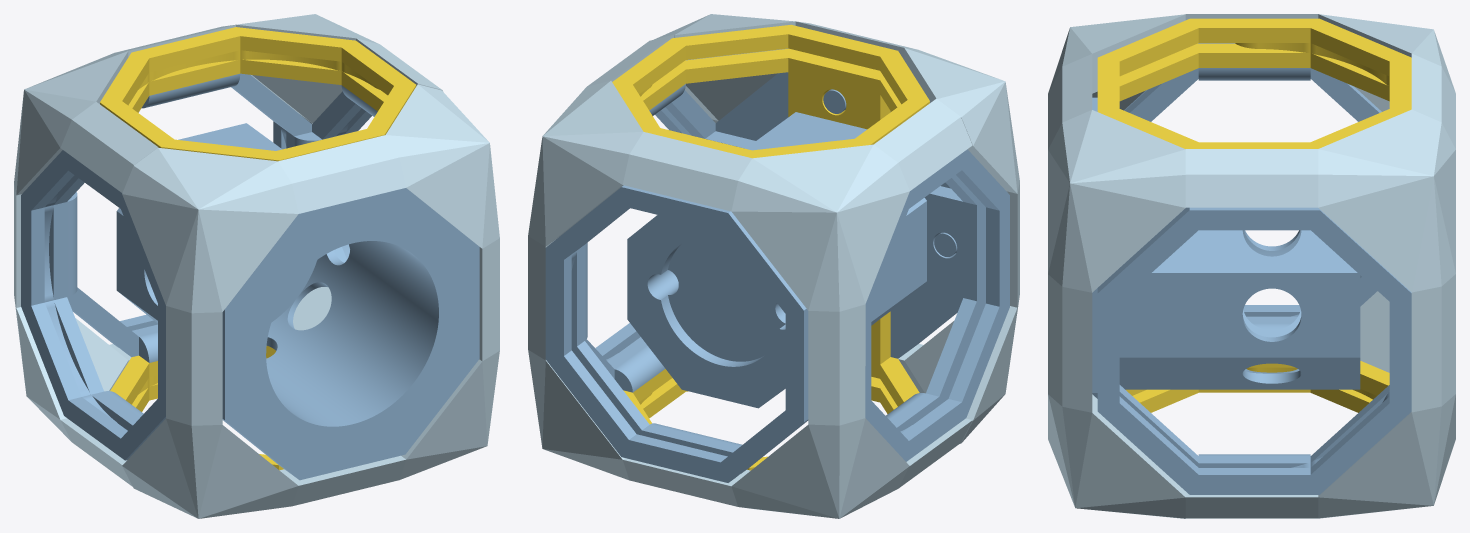
Rendered from BrynLensProposalAssembly.gltf.
The picture shows the model from 3 angles, left to right: view 1: azimuth 30°, elevation 25°; view 2: azimuth 150°, elevation 25°; view 3: azimuth 270°, elevation 25°; orthographic projection. The views are drawn at different scales.
Parts seen in each view (by area): view 1: mesh348_meshnode_348, mesh371_meshnode_371, mesh475_meshnode_475, mesh588_meshnode_588, mesh243_meshnode_243, mesh212_meshnode_212, mesh218_meshnode_218, mesh245_meshnode_245, mesh239_meshnode_239, mesh202_meshnode_202, mesh260_meshnode_260, mesh267_meshnode_267 (+59 smaller); view 2: mesh432_meshnode_432, mesh373_meshnode_373, mesh378_meshnode_378, mesh475_meshnode_475, mesh588_meshnode_588, mesh339_meshnode_339, mesh14_meshnode_14, mesh10_meshnode_10, mesh55_meshnode_55, mesh548_meshnode_548, mesh442_meshnode_442, mesh77_meshnode_77 (+67 smaller); view 3: mesh181_meshnode_181, mesh355_meshnode_355, mesh475_meshnode_475, mesh369_meshnode_369, mesh68_meshnode_68, mesh250_meshnode_250, mesh357_meshnode_357, mesh59_meshnode_59, mesh229_meshnode_229, mesh72_meshnode_72, mesh256_meshnode_256, mesh53_meshnode_53 (+62 smaller).
Part boxes in pixels (x1,y1,x2,y2): mesh348_meshnode_348: (225, 188, 479, 480); mesh371_meshnode_371: (266, 241, 438, 426); mesh475_meshnode_475: (100, 27, 415, 160); mesh588_meshnode_588: (21, 150, 165, 460); mesh243_meshnode_243: (198, 209, 298, 311); mesh212_meshnode_212: (198, 425, 298, 518); mesh218_meshnode_218: (406, 143, 489, 248); mesh245_meshnode_245: (122, 194, 198, 304); mesh239_meshnode_239: (191, 312, 222, 425); mesh202_meshnode_202: (406, 362, 487, 459); mesh260_meshnode_260: (292, 157, 405, 213); mesh267_meshnode_267: (158, 147, 277, 209); mesh432_meshnode_432: (545, 187, 803, 482); mesh373_meshnode_373: (627, 215, 785, 408); mesh378_meshnode_378: (668, 237, 785, 361); mesh475_meshnode_475: (612, 24, 929, 158); mesh588_meshnode_588: (865, 149, 1009, 461); mesh339_meshnode_339: (715, 72, 962, 358); mesh14_meshnode_14: (732, 211, 836, 310); mesh10_meshnode_10: (732, 425, 839, 518); mesh55_meshnode_55: (542, 136, 622, 246); mesh548_meshnode_548: (920, 193, 976, 301); mesh442_meshnode_442: (788, 58, 880, 129); mesh77_meshnode_77: (753, 144, 873, 212); mesh181_meshnode_181: (1097, 210, 1411, 494); mesh355_meshnode_355: (1119, 273, 1360, 357); mesh475_meshnode_475: (1097, 18, 1411, 148); mesh369_meshnode_369: (1119, 357, 1360, 389); mesh68_meshnode_68: (1318, 176, 1433, 292); mesh250_meshnode_250: (1070, 183, 1185, 292); mesh357_meshnode_357: (1152, 230, 1357, 272); mesh59_meshnode_59: (1318, 413, 1433, 505); mesh229_meshnode_229: (1075, 413, 1185, 508); mesh72_meshnode_72: (1185, 174, 1318, 207); mesh256_meshnode_256: (1070, 110, 1185, 182); mesh53_meshnode_53: (1411, 286, 1441, 412).
Size of the model in its own units: 0.0705 by 0.0705 by 0.0704.
